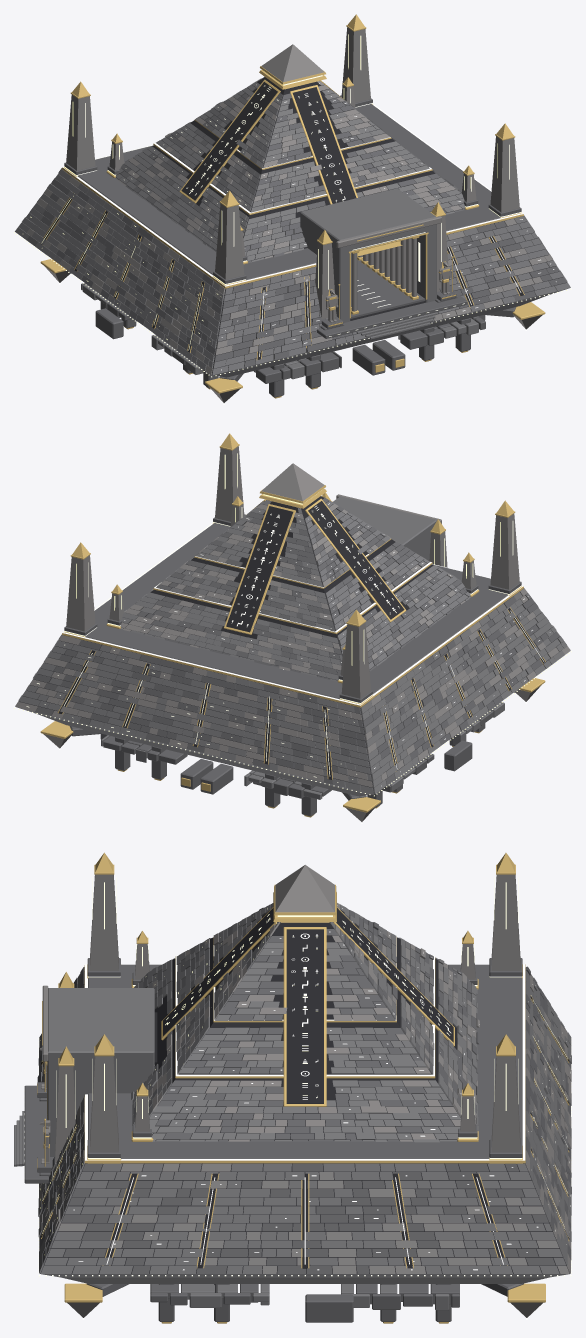
3 renders of one model, top to bottom at view 1: azimuth 30°, elevation 25°; view 2: azimuth 150°, elevation 25°; view 3: azimuth 270°, elevation 25°, orthographic. The views are drawn at different scales.
Parts seen in each view (by area): view 1: DC_masonry, DC_portal, DC_body, DC_gold, DC_under, DC_obelisks, DC_cap; view 2: DC_masonry, DC_body, DC_gold, DC_under, DC_obelisks, DC_portal, DC_cap; view 3: DC_masonry, DC_body, DC_gold, DC_obelisks, DC_portal, DC_under, DC_cap.
Part boxes in pixels (x1=…): DC_masonry: x1=15, y1=76, x2=570, y2=375; DC_portal: x1=300, y1=188, x2=467, y2=339; DC_body: x1=32, y1=77, x2=567, y2=375; DC_gold: x1=14, y1=79, x2=571, y2=377; DC_under: x1=40, y1=258, x2=547, y2=404; DC_obelisks: x1=64, y1=14, x2=521, y2=285; DC_cap: x1=259, y1=44, x2=326, y2=89; DC_masonry: x1=15, y1=497, x2=570, y2=794; DC_body: x1=18, y1=496, x2=558, y2=794; DC_gold: x1=14, y1=498, x2=571, y2=796; DC_under: x1=38, y1=678, x2=545, y2=823; DC_obelisks: x1=64, y1=433, x2=521, y2=704; DC_portal: x1=322, y1=492, x2=447, y2=567; DC_cap: x1=259, y1=463, x2=326, y2=508; DC_masonry: x1=37, y1=903, x2=571, y2=1273; DC_body: x1=40, y1=913, x2=569, y2=1277; DC_gold: x1=38, y1=907, x2=571, y2=1276; DC_obelisks: x1=87, y1=852, x2=522, y2=1163; DC_portal: x1=14, y1=972, x2=157, y2=1183; DC_under: x1=62, y1=1277, x2=547, y2=1323; DC_cap: x1=273, y1=865, x2=336, y2=922.
Size of the model in its own units: 1628 by 1252 by 1611.
